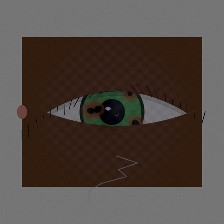foreign_body_visible: (113, 105, 159, 142)
